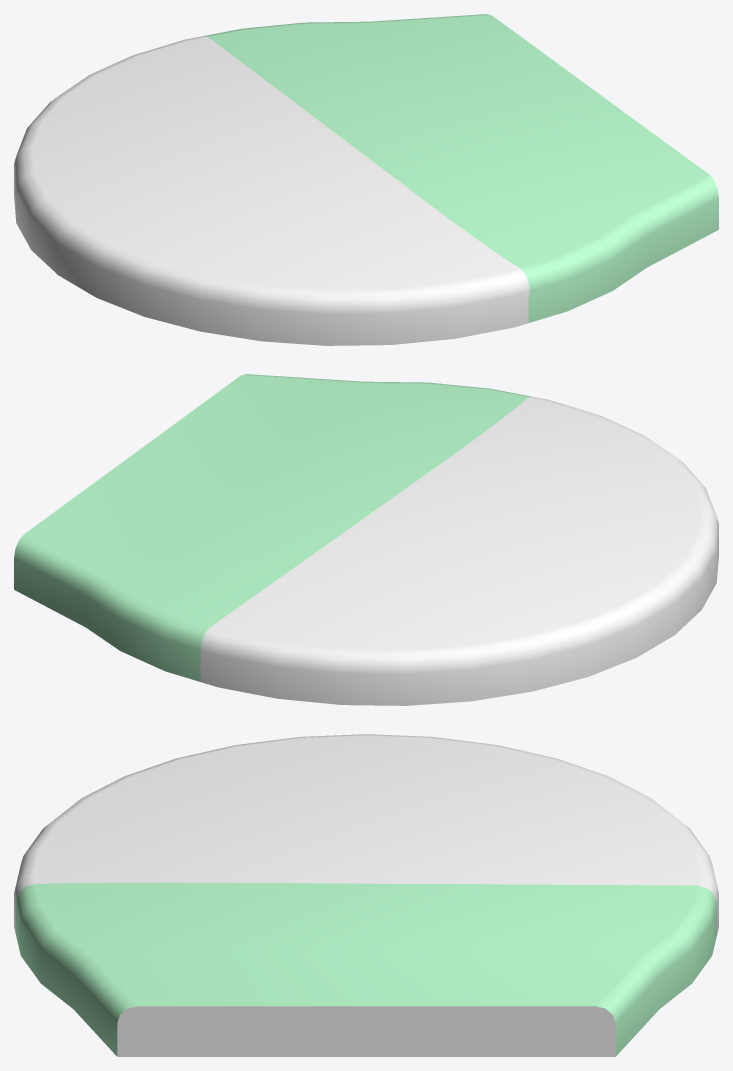
Rendered from StartCircle_green.fbx.
3 views of the same model, one above another, from view 1: azimuth 30°, elevation 25°; view 2: azimuth 150°, elevation 25°; view 3: azimuth 270°, elevation 25° (orthographic). The views are drawn at different scales.
Visible parts, largest first — view 1: StartCircle_green; view 2: StartCircle_green; view 3: StartCircle_green.
Boxes of the visible parts, x1=… form: StartCircle_green: x1=14, y1=14, x2=718, y2=345; StartCircle_green: x1=14, y1=374, x2=718, y2=705; StartCircle_green: x1=14, y1=734, x2=718, y2=1056.
Bounding box in the file's own units: 397 × 33.61 × 424.
Materials: 1 (1 with a texture image).
